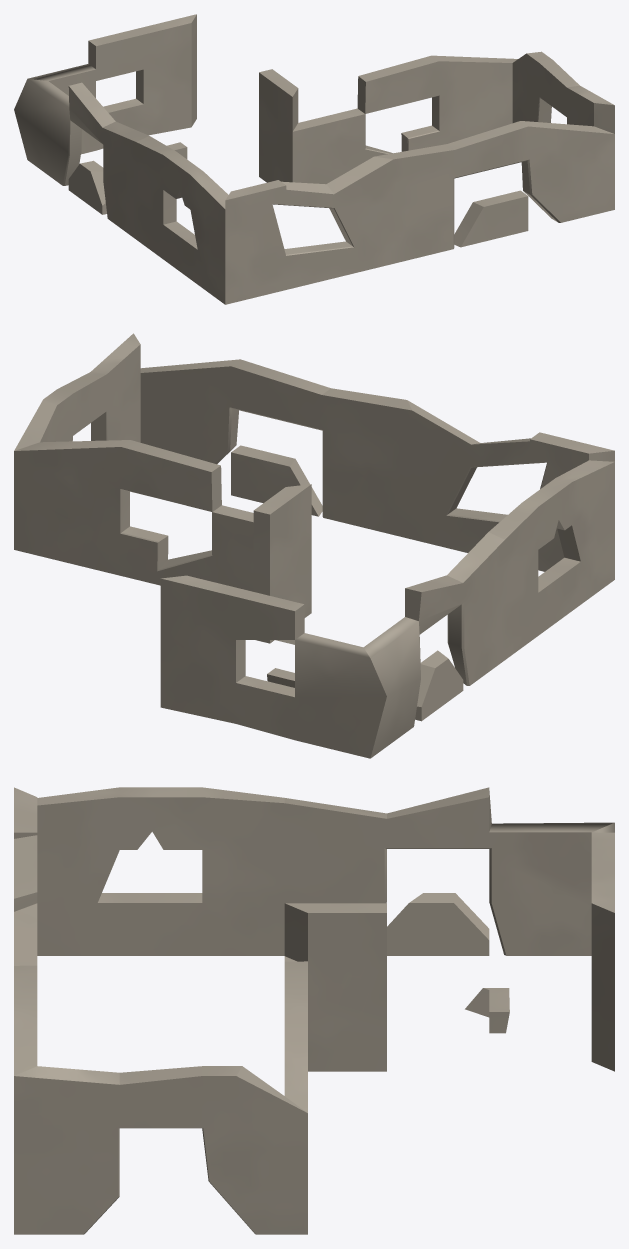
File: Ab_House_2.fbx
The picture shows the model from 3 angles, top to bottom: view 1: azimuth 30°, elevation 25°; view 2: azimuth 150°, elevation 25°; view 3: azimuth 270°, elevation 25°; orthographic projection. The views are drawn at different scales.
Parts seen in each view (by area): view 1: Ab_House_2; view 2: Ab_House_2; view 3: Ab_House_2.
Boxes of the visible parts, x1,y1,x2,y2 form: Ab_House_2: (14, 14, 614, 304); Ab_House_2: (14, 333, 614, 758); Ab_House_2: (14, 787, 614, 1234).
Size of the model in its own units: 31.64 by 7.84 by 26.91.
